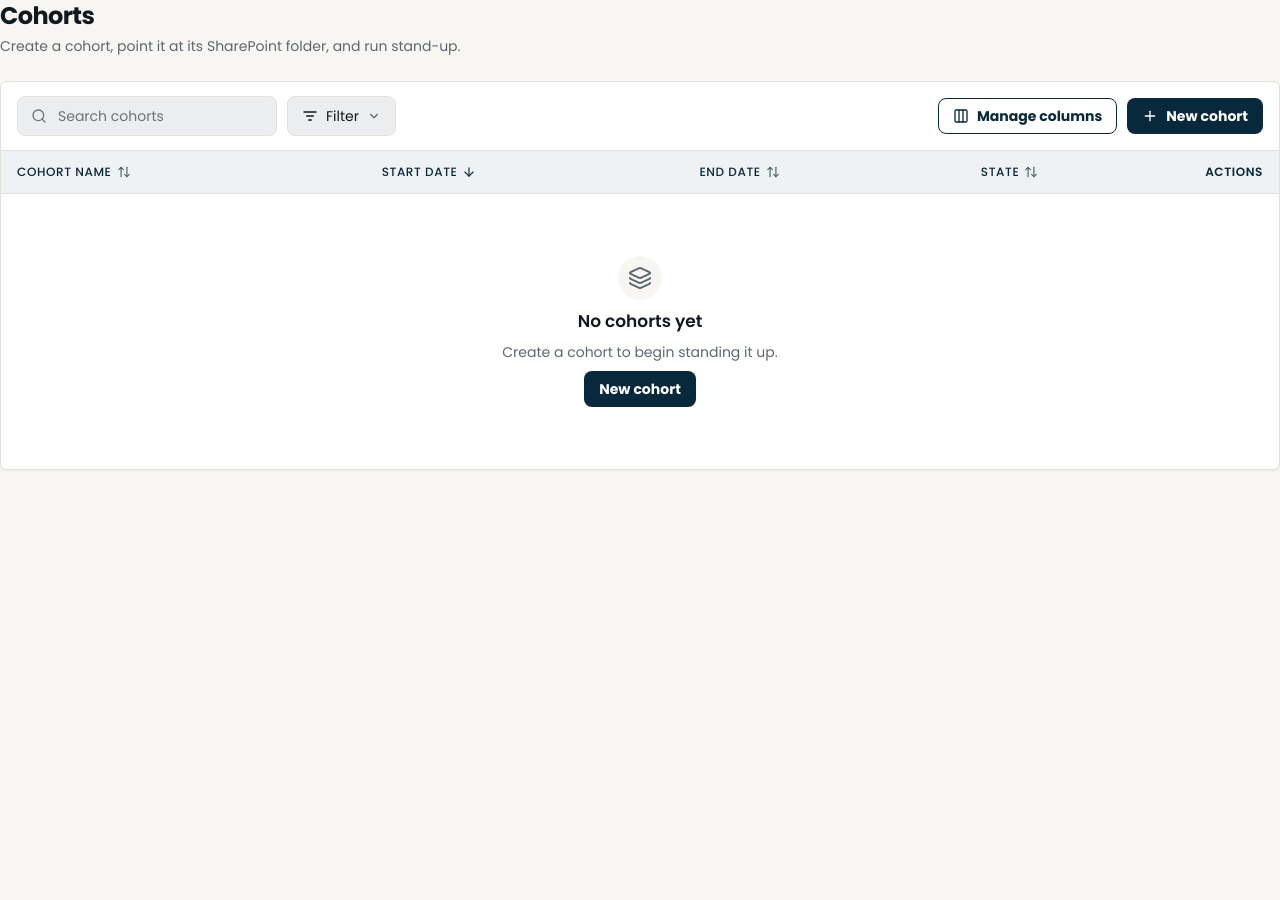
it: CohortsView › opens the create drawer from the header action
Expected: the text "A cohort is a time-bound group" is not shown
Click the 1st button "New cohort": click(1195, 116) [1127, 98, 1263, 134]
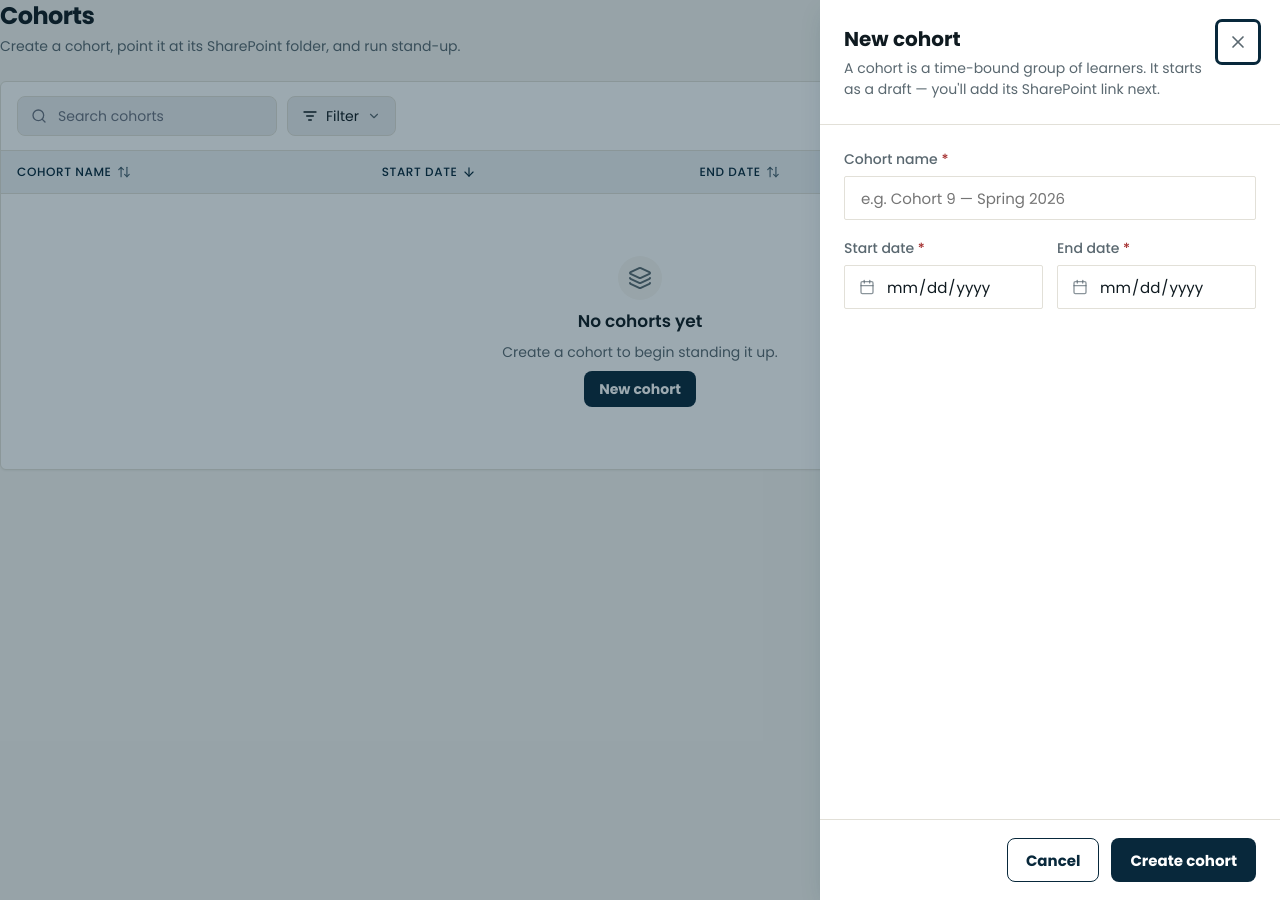
Expected: the text "A cohort is a time-bound group" is shown, [844, 58, 1202, 99]
